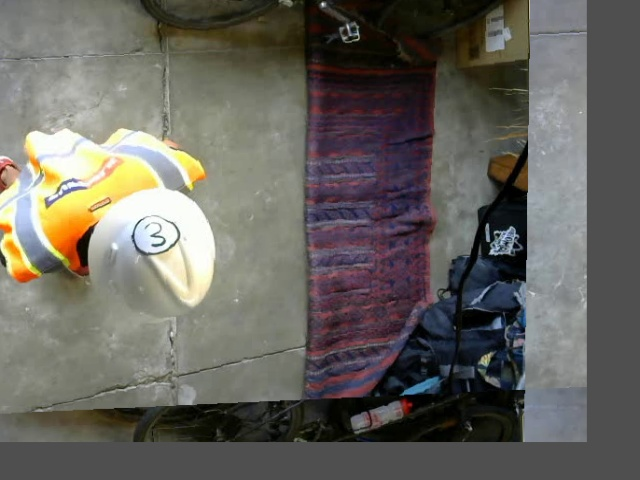three: (131, 212, 179, 255)
